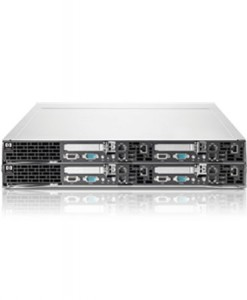ibm-server: (1, 98, 247, 196)
